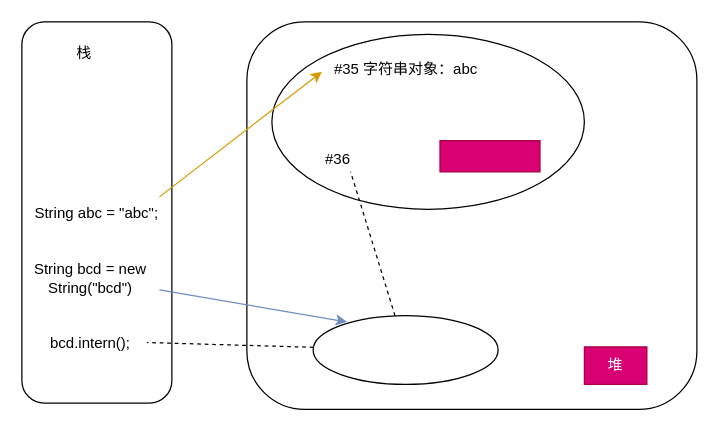
This 719x431 diagram has some shape labels left out. Each missing label, with the centre of its shape:
#36 字符串对象：bcd: (405,349)
字符串常量池: (489,155)
